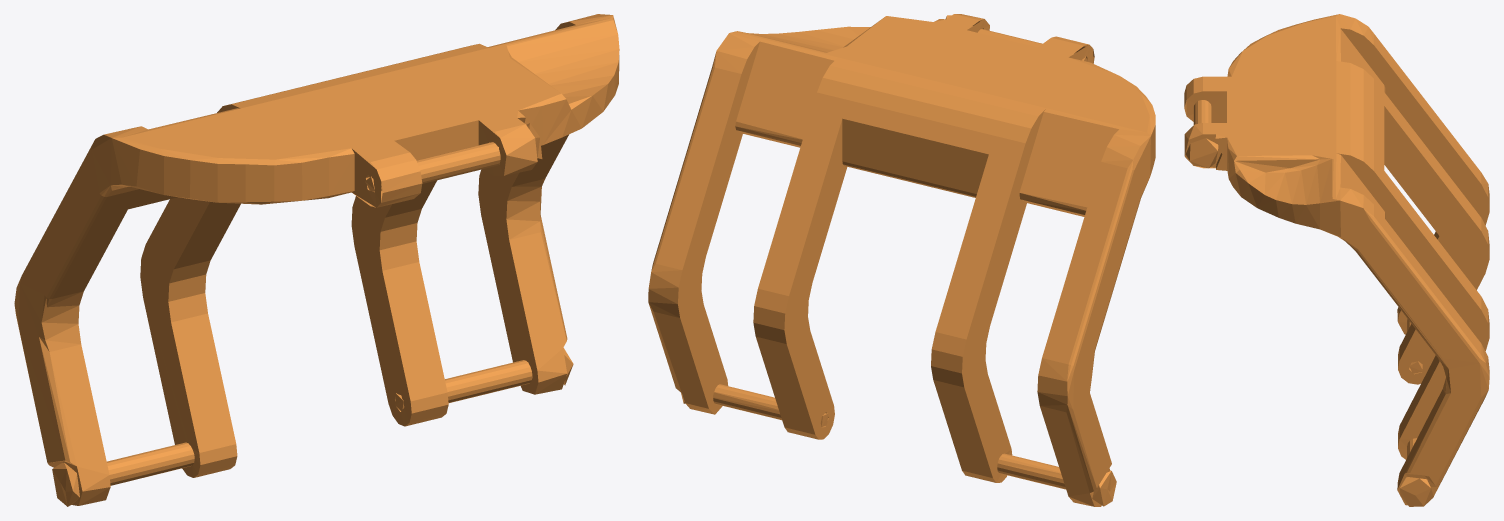
The model's file is inner_double.dae.
3 views of the same model, side by side, from view 1: azimuth 30°, elevation 25°; view 2: azimuth 150°, elevation 25°; view 3: azimuth 270°, elevation 25° (orthographic). The views are drawn at different scales.
Parts seen in each view (by area): view 1: inner_double; view 2: inner_double; view 3: inner_double.
Part boxes in pixels (<box>): inner_double: <box>14,14,619,506</box>; inner_double: <box>648,14,1155,506</box>; inner_double: <box>1184,14,1489,506</box>.
Bounding box in the file's own units: 0.095 × 0.0656 × 0.0735.
